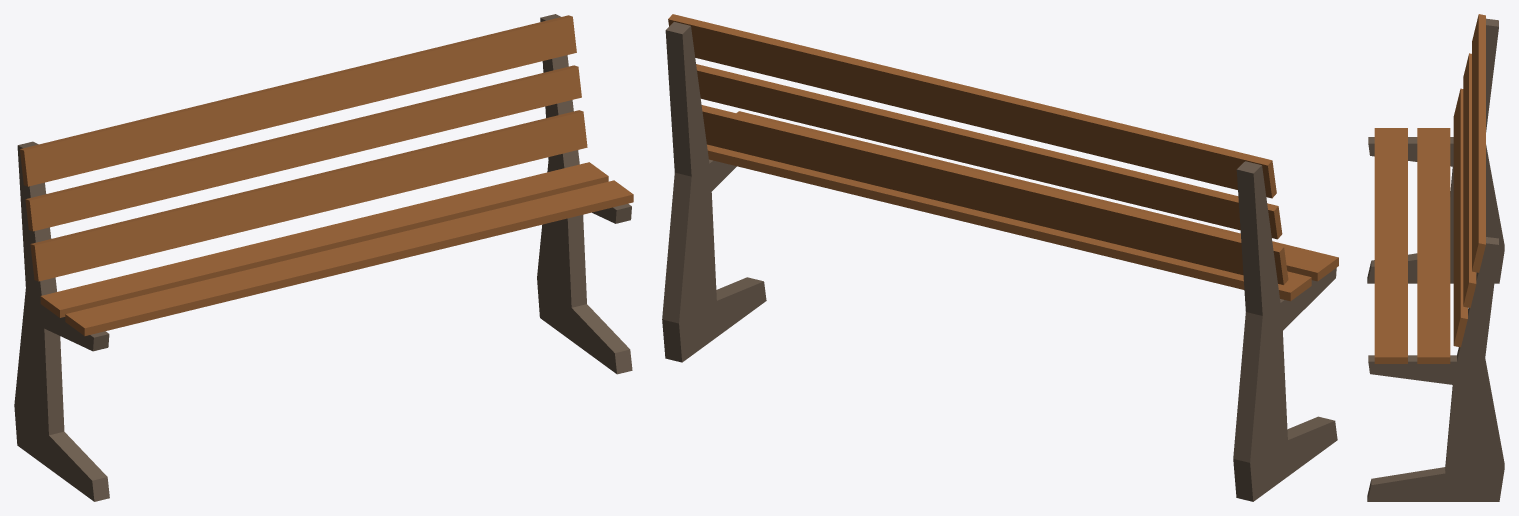
The model's file is LP_PostApoc_UrbanBenchB.fbx.
The picture shows the model from 3 angles, left to right: view 1: azimuth 30°, elevation 25°; view 2: azimuth 150°, elevation 25°; view 3: azimuth 270°, elevation 25°; orthographic projection. The views are drawn at different scales.
Parts seen in each view (by area): view 1: UrbanBenchB; view 2: UrbanBenchB; view 3: UrbanBenchB.
Boxes of the visible parts, bbox=[...] form: UrbanBenchB: bbox=[14, 14, 633, 501]; UrbanBenchB: bbox=[662, 14, 1338, 501]; UrbanBenchB: bbox=[1367, 14, 1504, 501].
Bounding box in the file's own units: 222 × 118 × 56.1.
